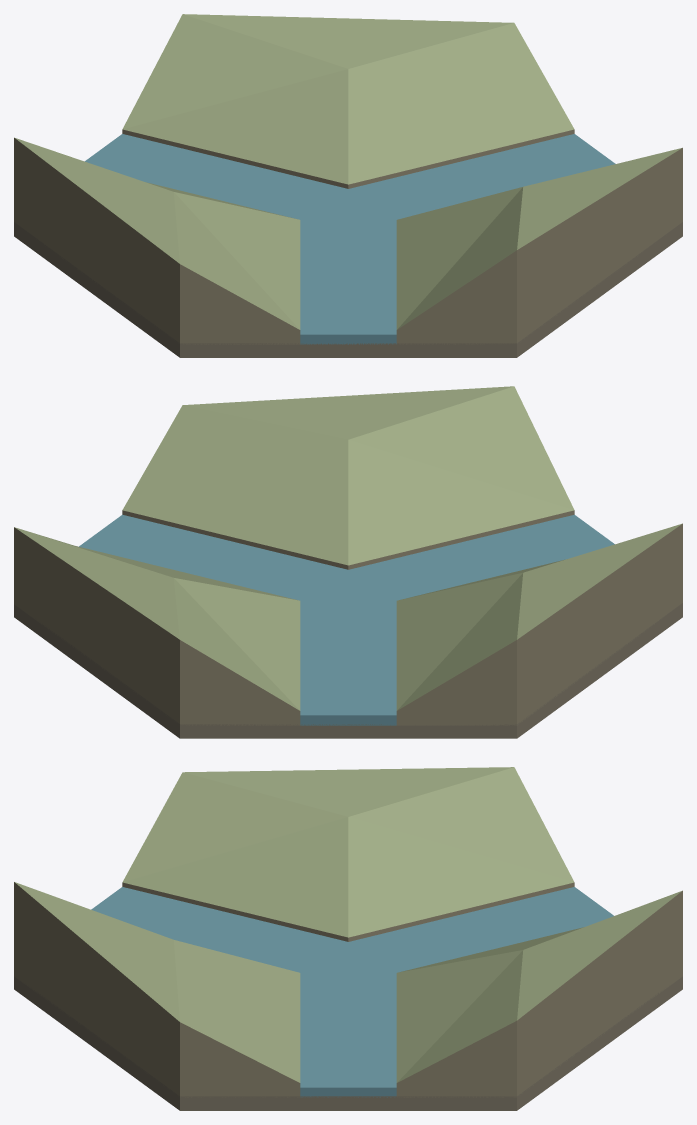
The picture shows the model from 3 angles, top to bottom: view 1: azimuth 30°, elevation 25°; view 2: azimuth 150°, elevation 25°; view 3: azimuth 270°, elevation 25°; orthographic projection.
Visible parts, largest first — view 1: WholeSlopingBankWedge1, WholeSlopingBankWedge2, WholeSlopingBankWedge3, WholeConnectedThreeArmWater, WholeCommonConfluenceBed; view 2: WholeSlopingBankWedge3, WholeSlopingBankWedge2, WholeSlopingBankWedge1, WholeConnectedThreeArmWater, WholeCommonConfluenceBed; view 3: WholeSlopingBankWedge2, WholeSlopingBankWedge3, WholeSlopingBankWedge1, WholeConnectedThreeArmWater, WholeCommonConfluenceBed.
Part boxes in pixels (<box>): WholeSlopingBankWedge1: <box>122,14,574,188</box>; WholeSlopingBankWedge2: <box>14,137,300,344</box>; WholeSlopingBankWedge3: <box>396,147,682,344</box>; WholeConnectedThreeArmWater: <box>85,134,615,344</box>; WholeCommonConfluenceBed: <box>14,222,682,357</box>; WholeSlopingBankWedge3: <box>122,386,574,569</box>; WholeSlopingBankWedge2: <box>396,523,682,725</box>; WholeSlopingBankWedge1: <box>14,527,300,725</box>; WholeConnectedThreeArmWater: <box>79,514,614,725</box>; WholeCommonConfluenceBed: <box>14,603,682,738</box>; WholeSlopingBankWedge2: <box>122,767,574,941</box>; WholeSlopingBankWedge3: <box>14,882,300,1097</box>; WholeSlopingBankWedge1: <box>396,890,682,1097</box>; WholeConnectedThreeArmWater: <box>91,887,613,1097</box>; WholeCommonConfluenceBed: <box>14,976,682,1110</box>.
Bounding box in the file's own units: 3.61 × 0.74 × 4.17.
